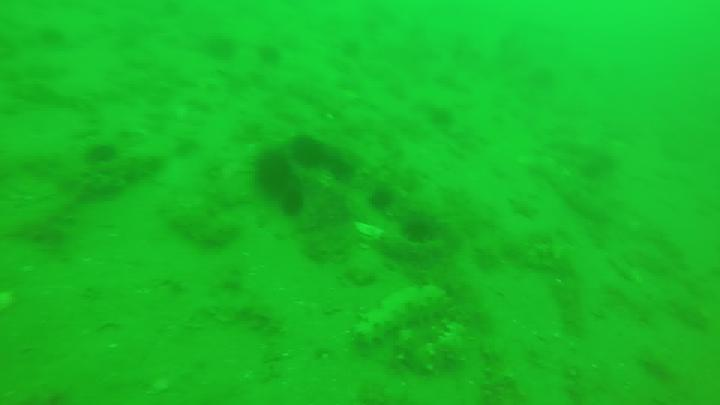echinus: (260, 150, 292, 192), (288, 136, 325, 166), (403, 212, 437, 243), (282, 187, 302, 217), (87, 143, 118, 162), (371, 187, 391, 207)
holothurian: (353, 288, 449, 351)
